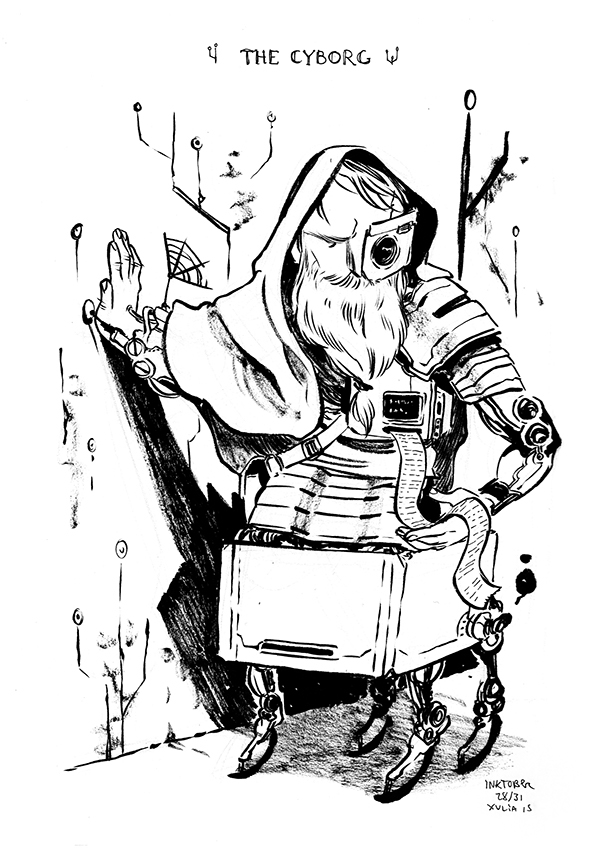bird: (131, 106, 552, 749)
